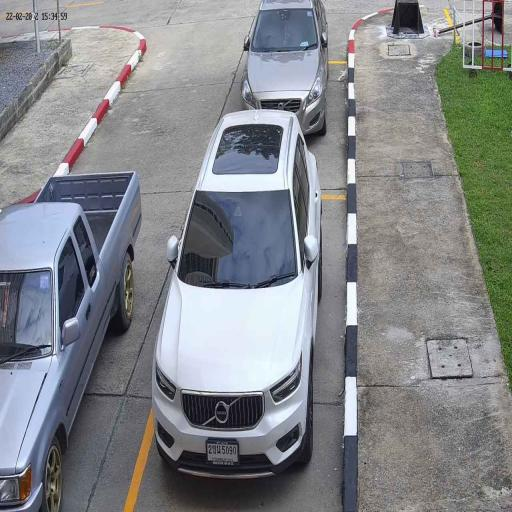car: (151, 107, 324, 485), (0, 170, 141, 512), (240, 2, 329, 133)
